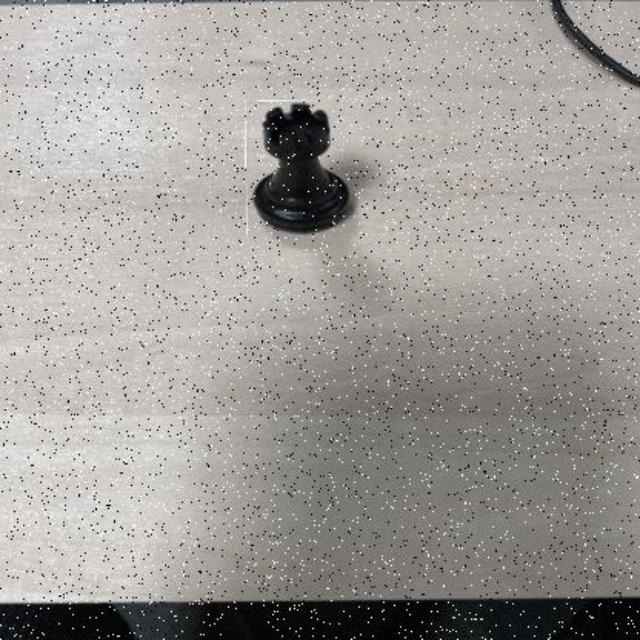black-rook: (246, 102, 356, 236)
